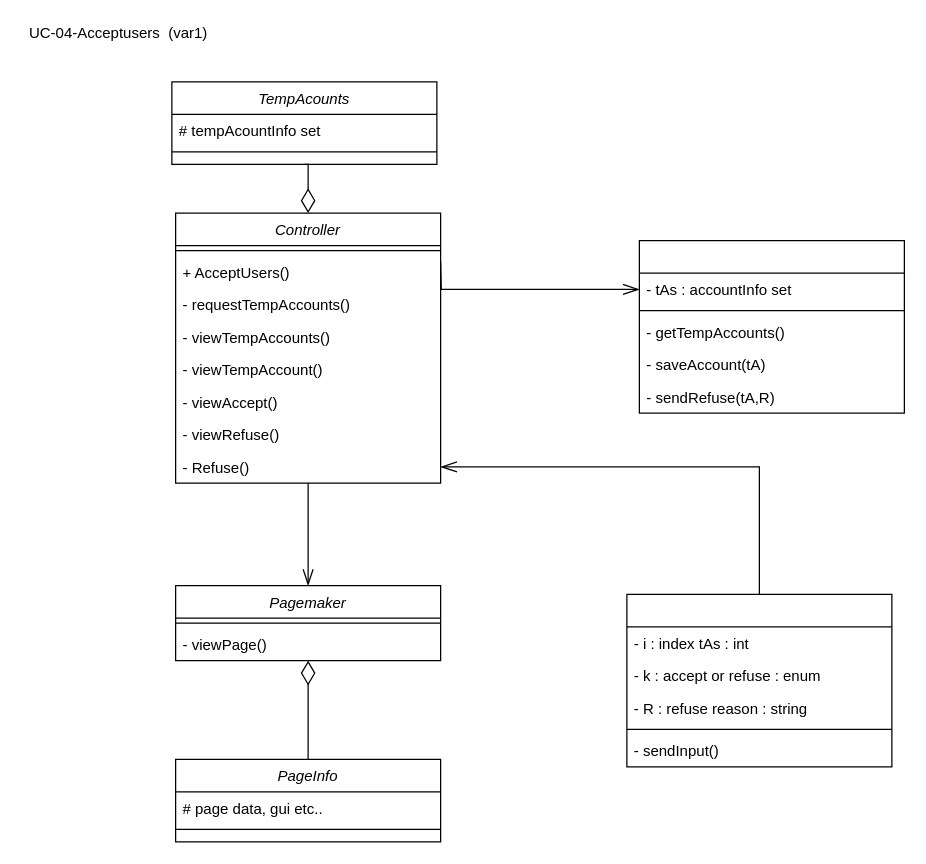
Image size: 926x864. Some labels were removed from this diagram. The box of each missing label's shape, as (x1, y1, x2, y2) in pixels:
InputOperator: (626, 593, 892, 767)
UserModuleConnection: (638, 239, 904, 413)
